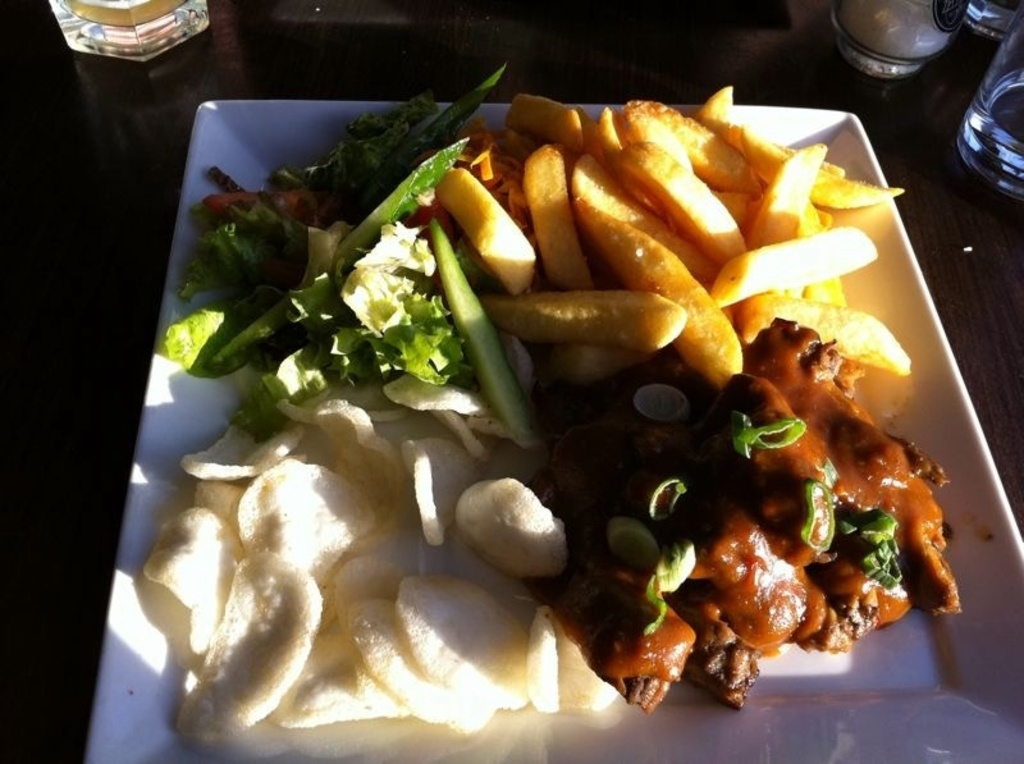French fries: (448, 76, 919, 389)
